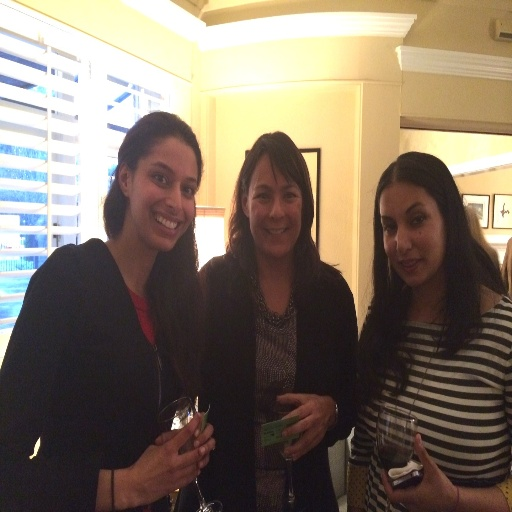hand: (380, 433, 456, 511), (276, 394, 338, 460), (155, 413, 217, 475)
